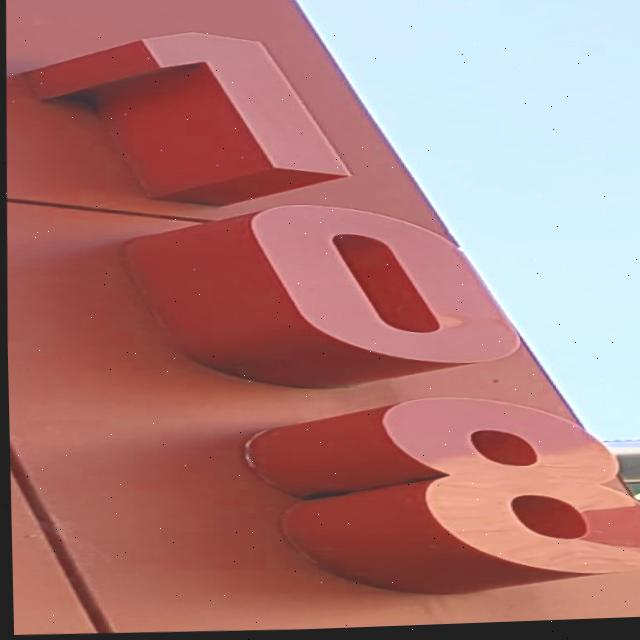character: (214, 186, 546, 378), (352, 381, 640, 590), (94, 17, 387, 195)
